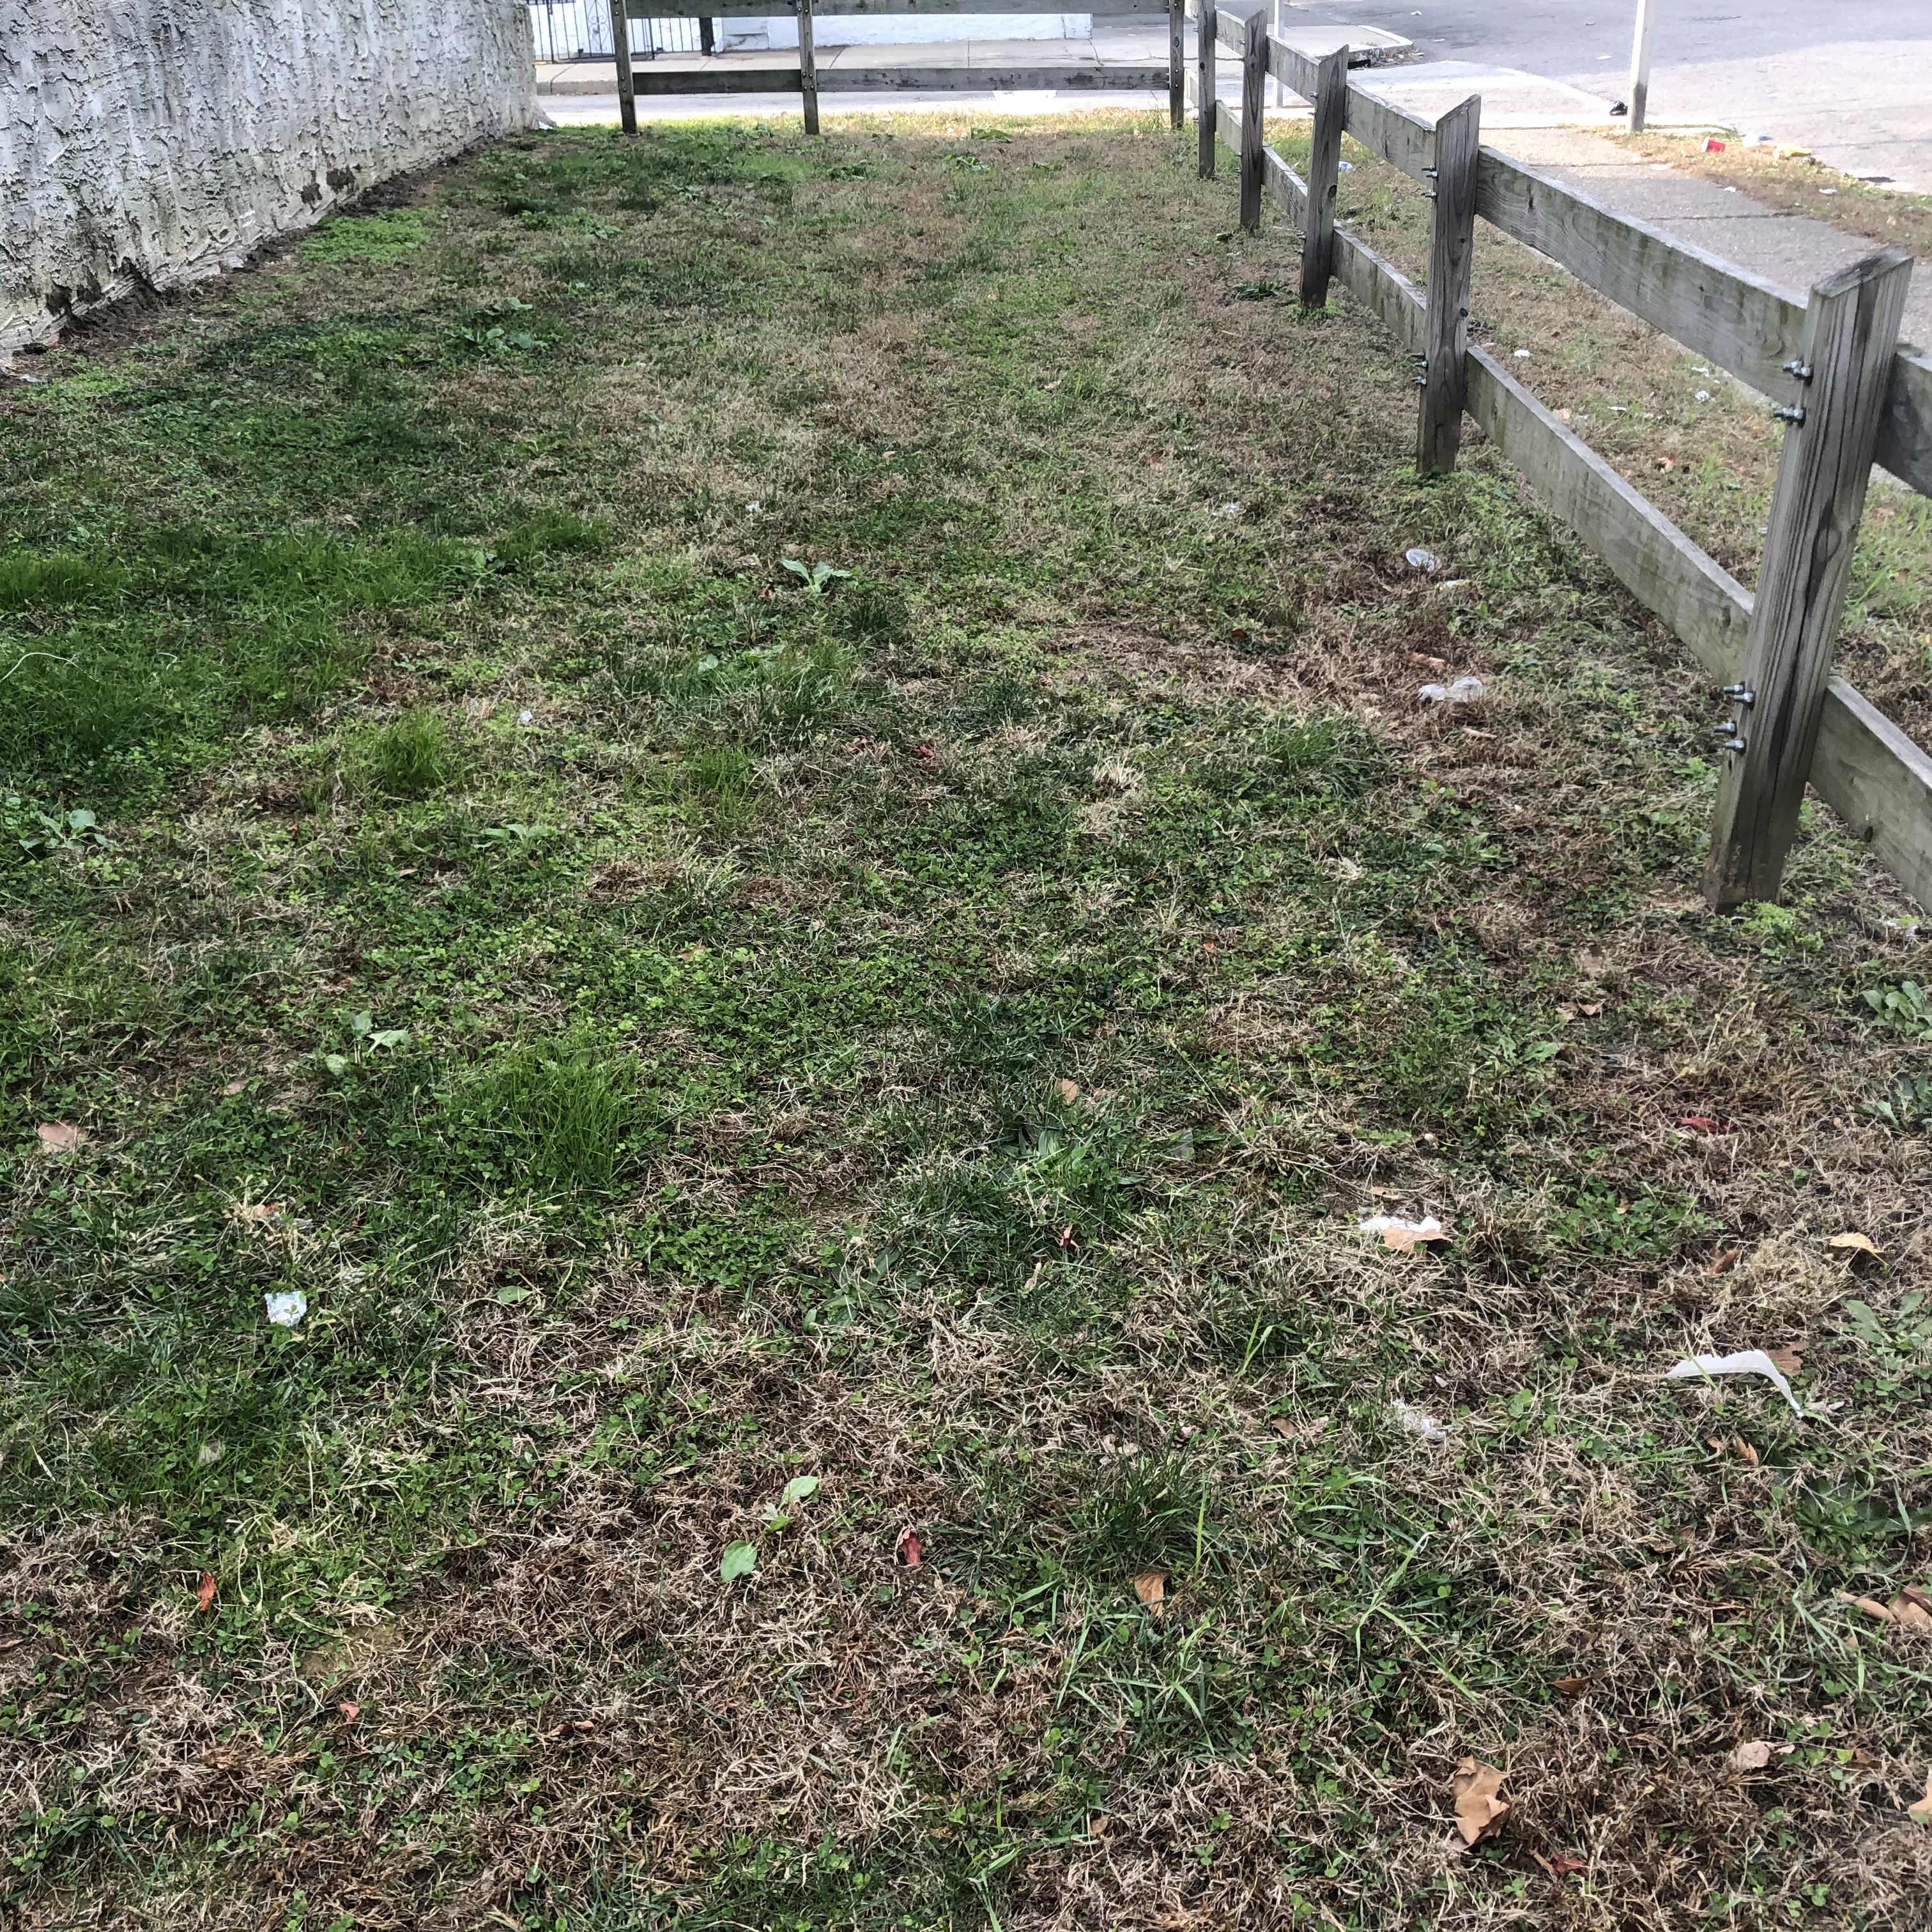good_lawn: (260, 241, 1226, 1716), (387, 143, 1178, 1842), (27, 402, 888, 1909)
